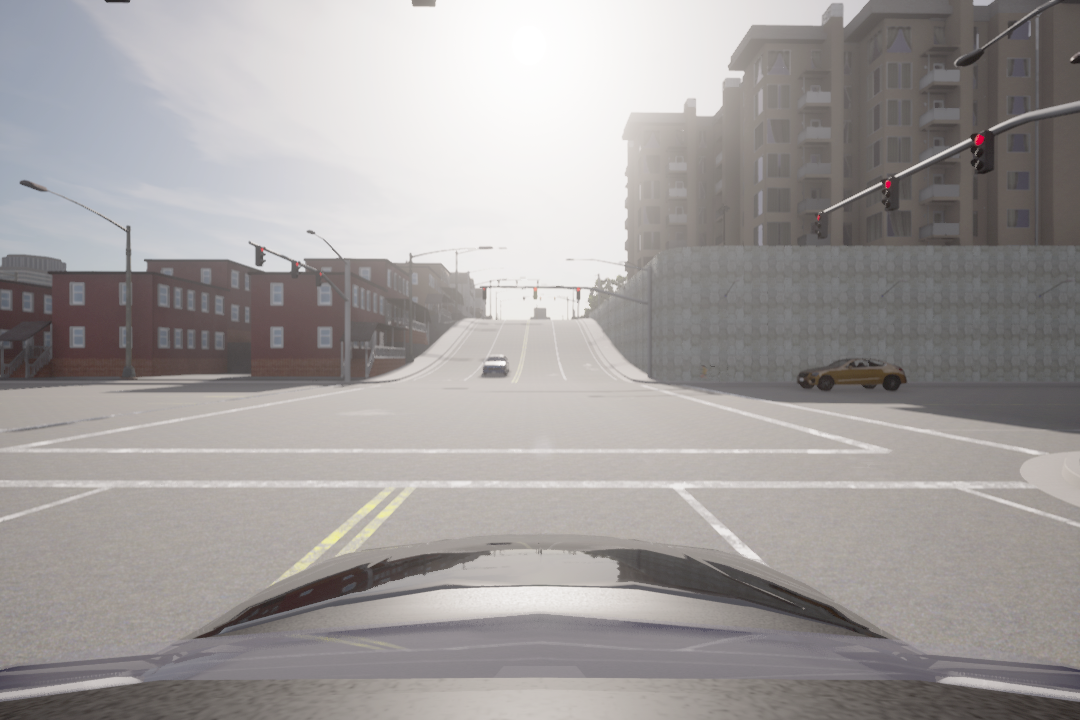TrafficLight: (969, 127, 999, 177), (881, 176, 903, 214), (813, 210, 831, 243), (254, 246, 266, 270), (291, 258, 301, 279), (315, 267, 324, 287)
